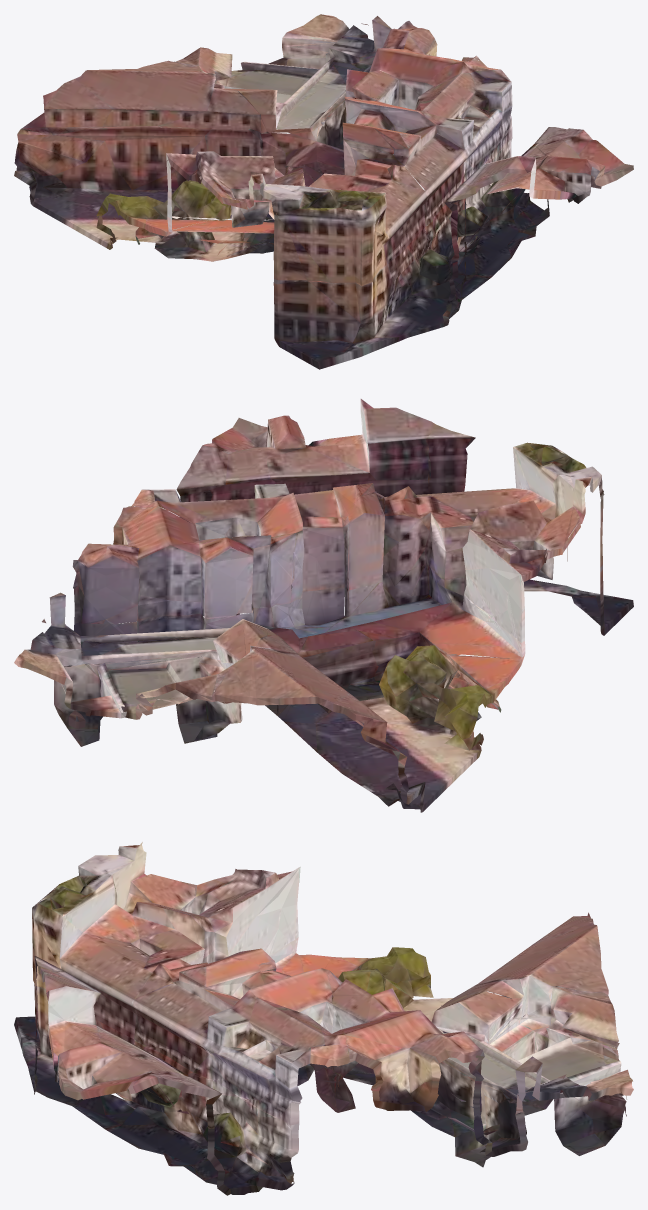
The picture shows the model from 3 angles, top to bottom: view 1: azimuth 30°, elevation 25°; view 2: azimuth 150°, elevation 25°; view 3: azimuth 270°, elevation 25°; orthographic projection. The views are drawn at different scales.
Parts seen in each view (by area): view 1: Mesh_0; view 2: Mesh_0; view 3: Mesh_0.
Boxes of the visible parts, x1=… form: Mesh_0: x1=14, y1=14, x2=633, y2=369; Mesh_0: x1=14, y1=399, x2=633, y2=812; Mesh_0: x1=14, y1=842, x2=633, y2=1195.
Bounding box in the file's own units: 66.85 × 26.24 × 82.58.
1 material, 1 textured.
